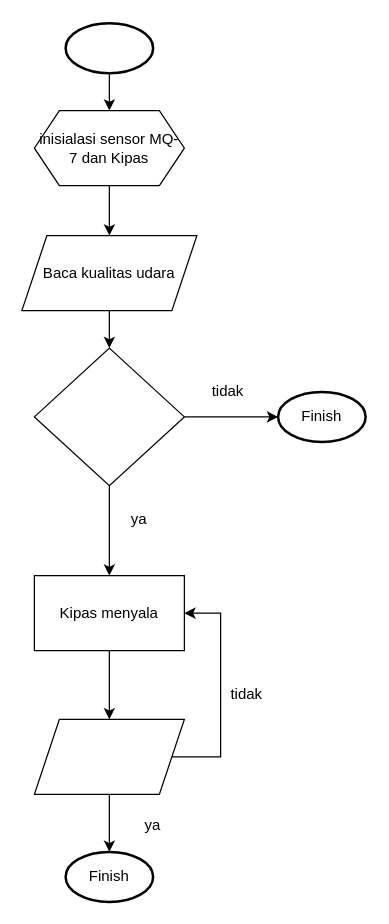
Some shapes in this 389 by 924 pixel diagram are drawn without their labels. The shapes that lost their labels are listed below. From the top down, each one's centre as x and y in pixels, then its label:
At (x=109, y=47): "Start".
At (x=108, y=416): "apakah kualitas udara jelek ? <20 ppm".
At (x=108, y=756): "Sensor Cahaya terdeteksi".
